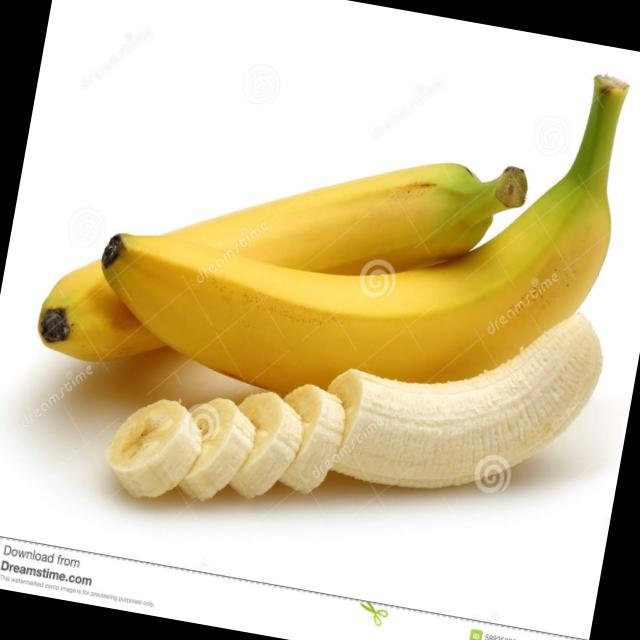banana: (78, 89, 632, 455), (19, 81, 528, 458)
